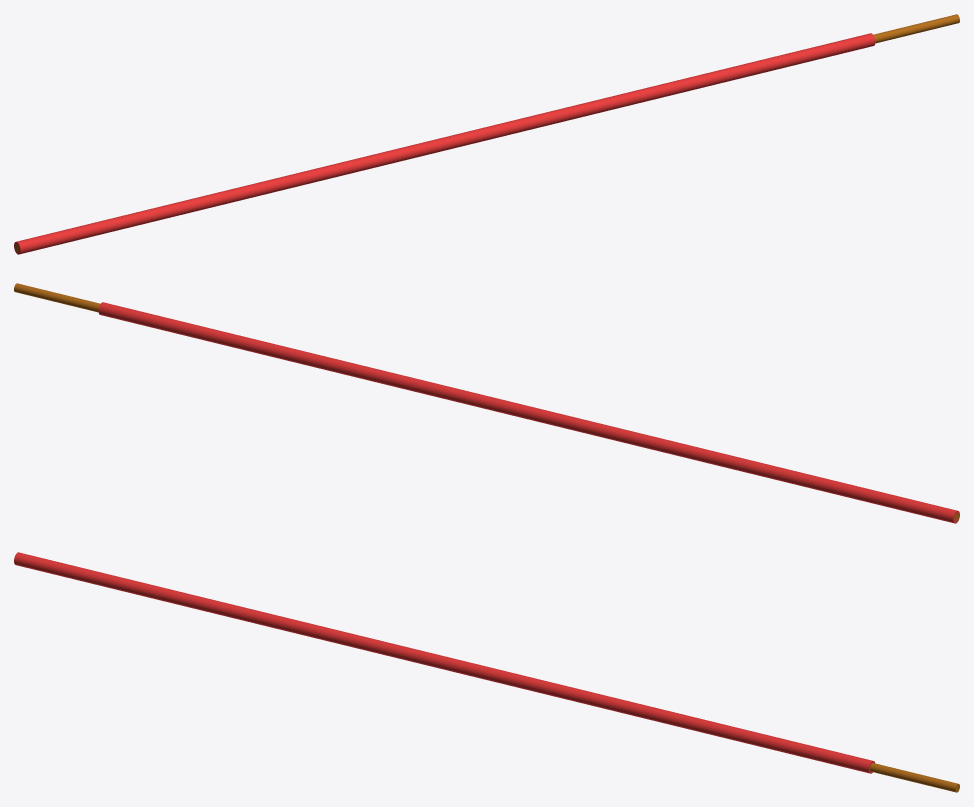
Rendered from wire1.fbx.
3 views of the same model, one above another, from view 1: azimuth 30°, elevation 25°; view 2: azimuth 150°, elevation 25°; view 3: azimuth 330°, elevation 25° (orthographic).
Parts seen in each view (by area): view 1: wire1; view 2: wire1; view 3: wire1.
Boxes of the visible parts, box(x1,y1,x2,y2) form: wire1: box(14, 14, 959, 254); wire1: box(14, 283, 959, 523); wire1: box(14, 552, 959, 792).
Bounding box in the file's own units: 33 × 0.4 × 0.4.
